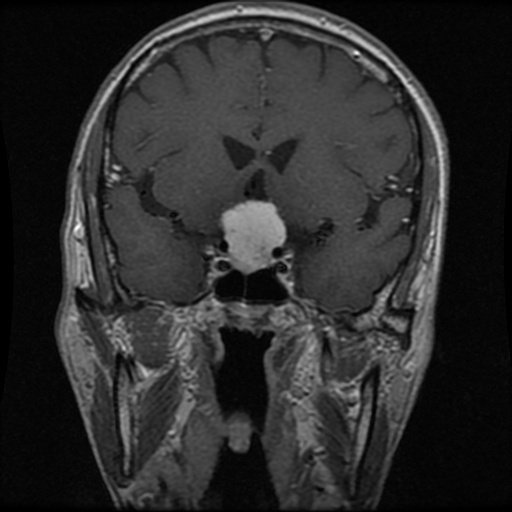meningioma: (220, 199, 284, 271)
